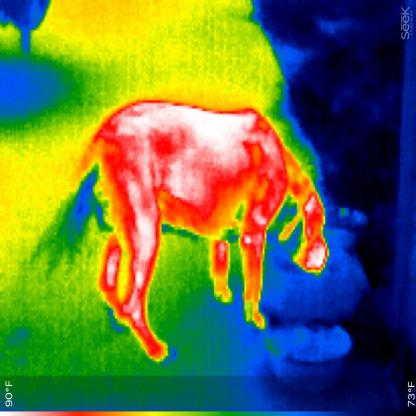dog: (71, 94, 332, 364)
